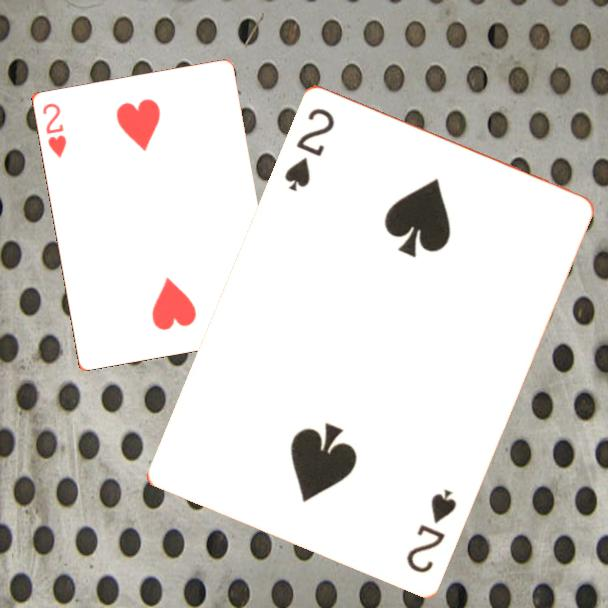h02: (39, 99, 69, 161)
s02: (402, 484, 460, 576), (280, 104, 337, 194)
